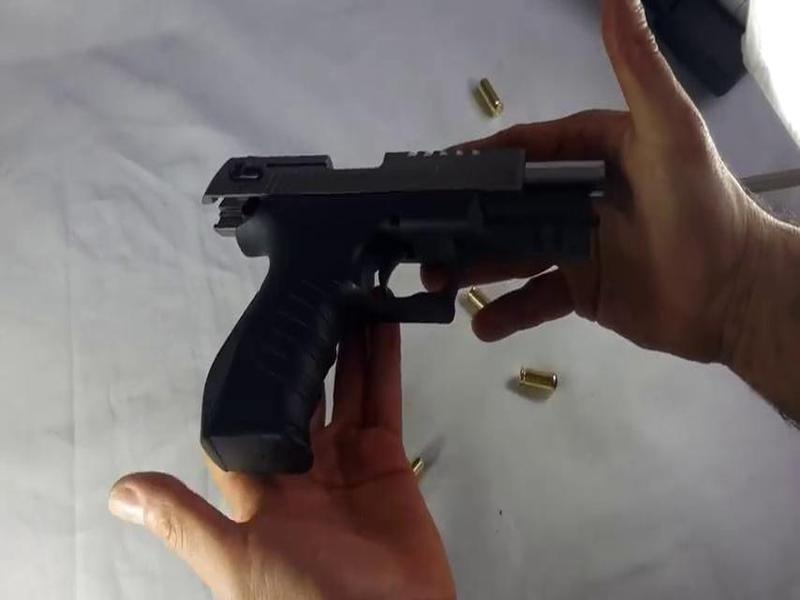Pistola: (159, 116, 644, 489)
